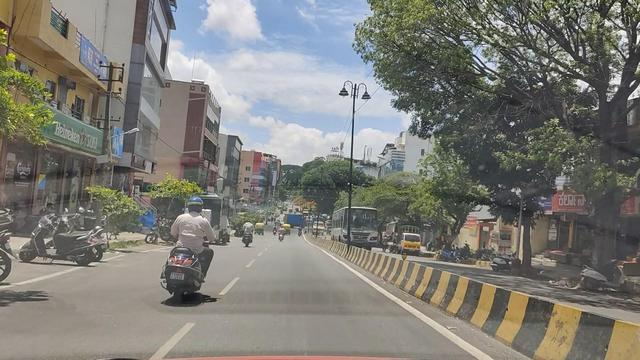LMV: (164, 189, 221, 309)
